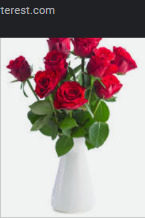RedRose: (54, 82, 91, 111), (82, 51, 126, 75), (86, 75, 123, 99), (37, 55, 73, 79), (2, 54, 31, 81), (117, 45, 141, 76), (69, 35, 101, 58), (31, 69, 58, 96), (46, 37, 75, 55)
